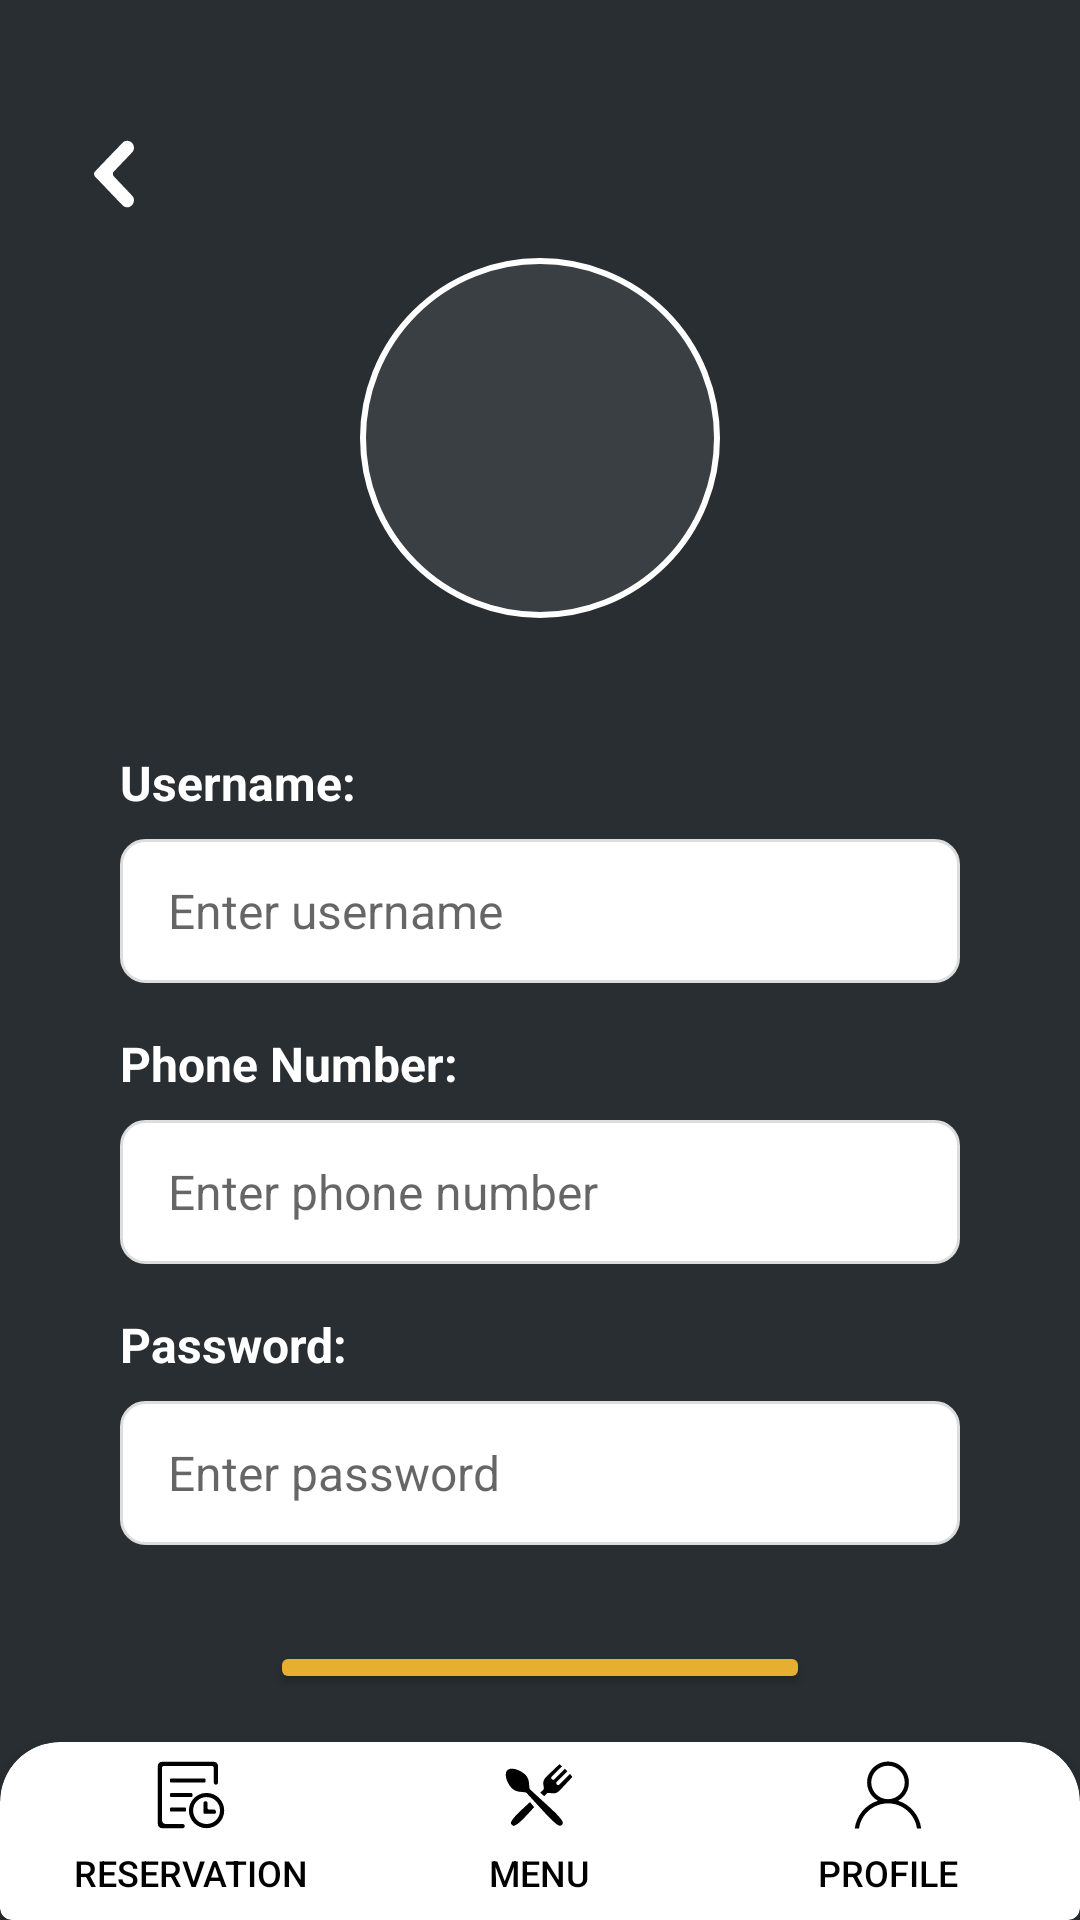

Where icons sit on this 1080 x 1920 app screen, as detection(x1, y1, x2, y2):
Back: detection(94, 140, 134, 208)
